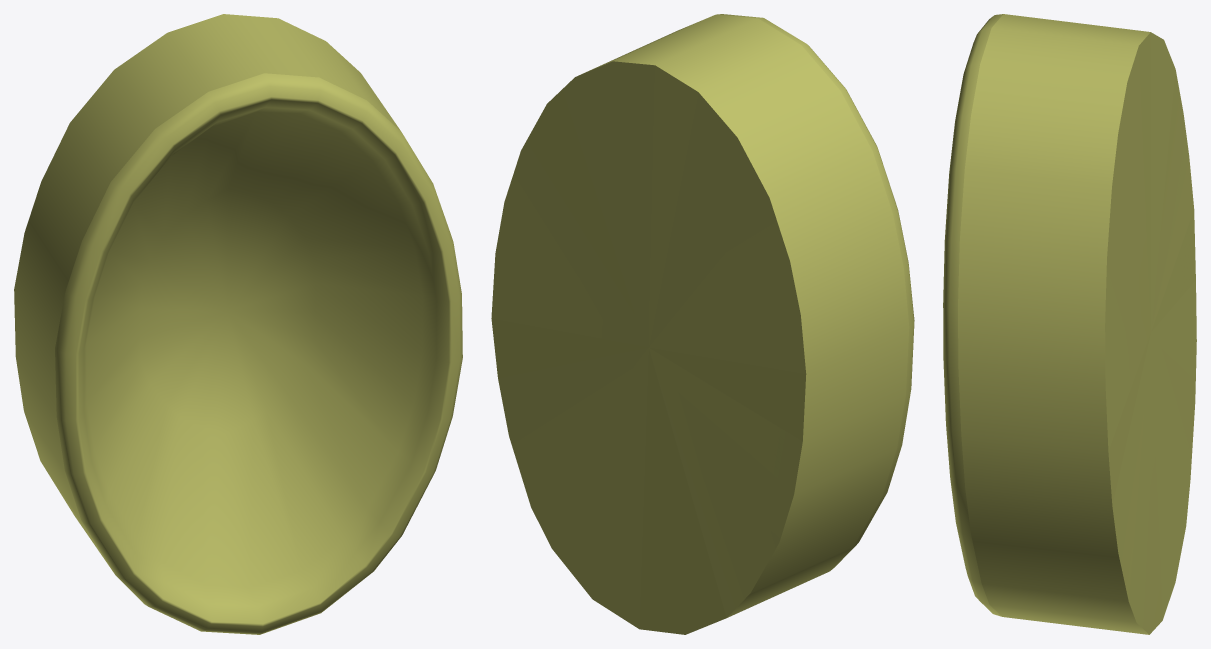
File: TL1_8shapes_Oval_Classic_Metal.001 3.glb
The picture shows the model from 3 angles, left to right: view 1: azimuth 30°, elevation 25°; view 2: azimuth 150°, elevation 25°; view 3: azimuth 270°, elevation 25°; orthographic projection. The views are drawn at different scales.
Parts seen in each view (by area): view 1: TL1_8shapes_Oval_Classic_Metal.001; view 2: TL1_8shapes_Oval_Classic_Metal.001; view 3: TL1_8shapes_Oval_Classic_Metal.001.
Boxes of the visible parts, <box> form: TL1_8shapes_Oval_Classic_Metal.001: <box>14,14,462,634</box>; TL1_8shapes_Oval_Classic_Metal.001: <box>491,14,914,634</box>; TL1_8shapes_Oval_Classic_Metal.001: <box>943,14,1196,634</box>.
Bounding box in the file's own units: 0.5674 × 0.7803 × 0.3121.
